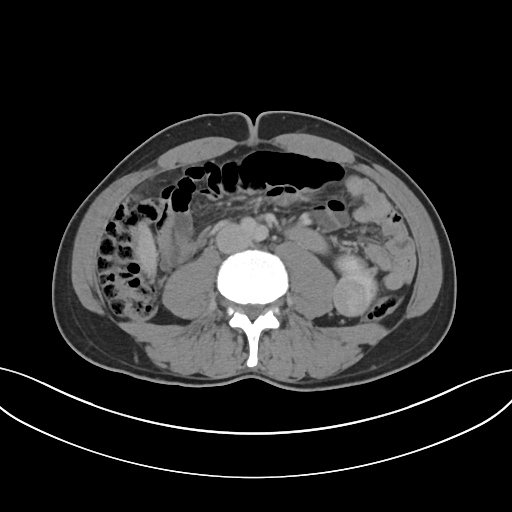Lesion: (330, 277, 371, 317)
